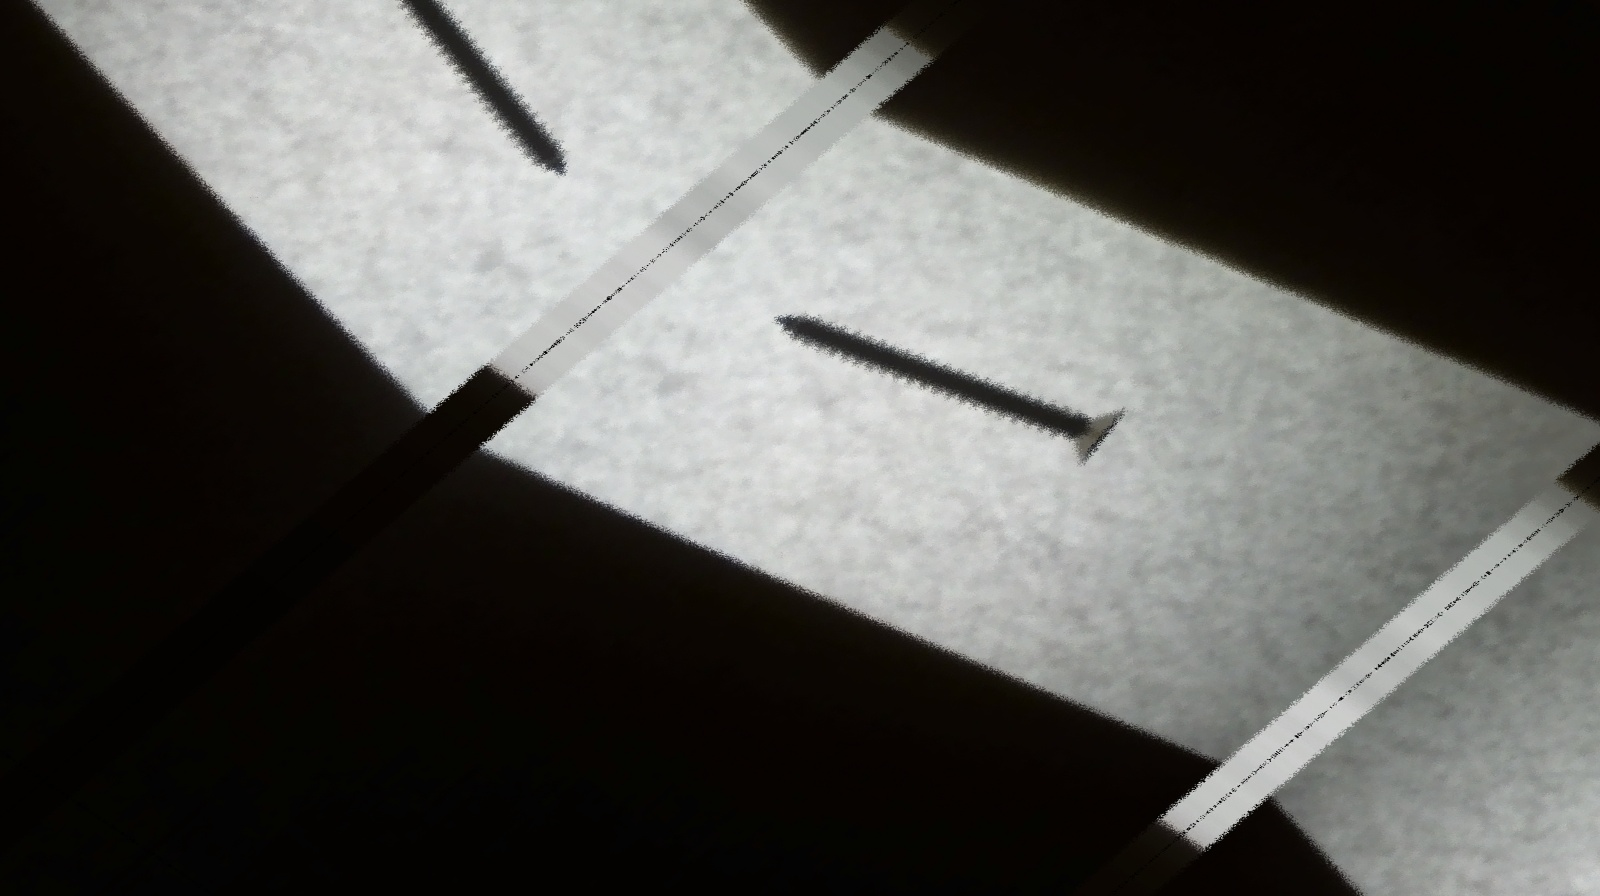S002: (731, 211, 1167, 533)
